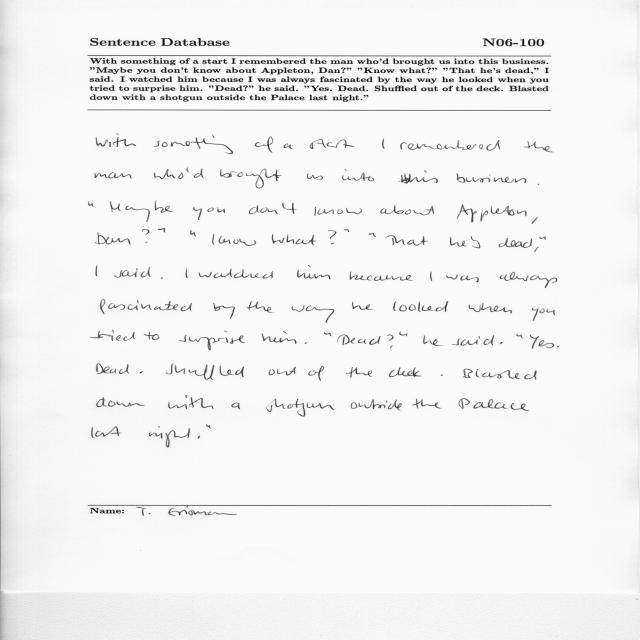word: (154, 135, 233, 154), (100, 299, 192, 314), (166, 363, 244, 380), (110, 201, 173, 222), (179, 331, 245, 351), (457, 205, 527, 223), (220, 169, 282, 189), (266, 399, 334, 417), (400, 140, 500, 150), (500, 272, 557, 288), (459, 398, 529, 411), (149, 427, 190, 448), (463, 369, 537, 380), (292, 305, 335, 323), (199, 269, 273, 279), (457, 173, 527, 183), (168, 395, 214, 409), (351, 399, 402, 411), (393, 301, 448, 312), (349, 272, 413, 281), (398, 170, 438, 184), (381, 205, 435, 215), (212, 234, 256, 246), (96, 134, 136, 147), (249, 203, 296, 214), (272, 234, 317, 245), (91, 330, 135, 341), (337, 335, 381, 346), (97, 397, 145, 407), (297, 266, 331, 280), (385, 235, 428, 246), (95, 232, 131, 245), (452, 335, 494, 346), (262, 331, 297, 344), (310, 139, 354, 149), (314, 207, 362, 216), (469, 303, 512, 313), (193, 207, 225, 220), (342, 169, 374, 181), (96, 364, 129, 375), (114, 267, 150, 277), (92, 426, 122, 438), (213, 303, 235, 319), (530, 335, 554, 349), (499, 238, 532, 248), (389, 368, 422, 378), (412, 398, 442, 409), (524, 141, 553, 152), (247, 301, 273, 313), (255, 136, 273, 153), (532, 308, 555, 321), (154, 169, 183, 179), (346, 367, 372, 378), (95, 172, 132, 179), (268, 367, 296, 376), (308, 366, 324, 381), (446, 275, 479, 282), (423, 336, 443, 346), (186, 168, 204, 178), (450, 237, 467, 247), (352, 302, 373, 310), (471, 237, 481, 249), (144, 332, 159, 340), (328, 230, 336, 244), (142, 229, 149, 243), (387, 334, 394, 348), (307, 174, 323, 180), (231, 403, 240, 410), (284, 143, 293, 149), (399, 332, 408, 337), (532, 217, 538, 224), (190, 230, 196, 237), (88, 201, 94, 207), (382, 138, 385, 149), (185, 268, 188, 278), (158, 229, 165, 233), (369, 233, 376, 237), (539, 236, 546, 240), (324, 332, 331, 336), (516, 334, 523, 338), (534, 247, 539, 252), (96, 266, 98, 276), (206, 425, 211, 429), (430, 272, 432, 281), (344, 229, 349, 232), (139, 371, 143, 374), (160, 277, 163, 279), (305, 342, 308, 344), (500, 342, 503, 344), (440, 374, 443, 376), (198, 436, 200, 439), (557, 346, 559, 347), (538, 184, 539, 185)
